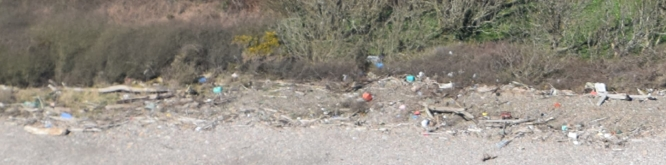scattered_barrel: (189, 55, 421, 106)
straight_bar: (56, 66, 172, 104), (17, 113, 74, 148), (423, 94, 476, 125)
together_barrel: (426, 74, 657, 148)
